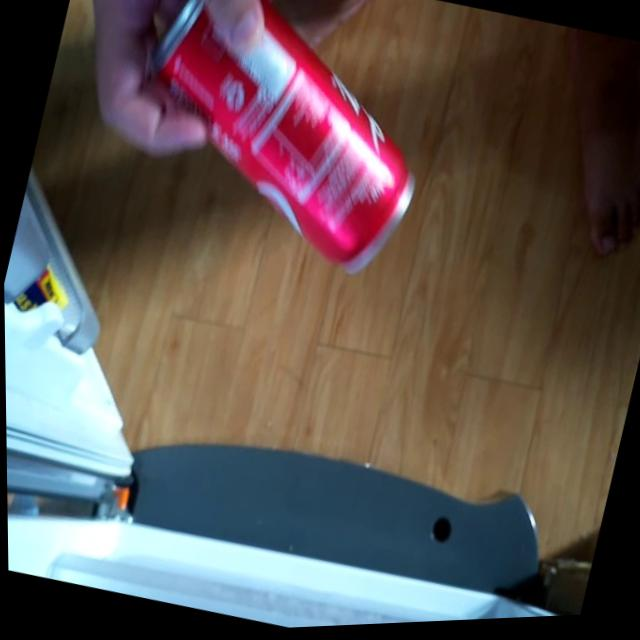coke: (91, 0, 470, 305)
